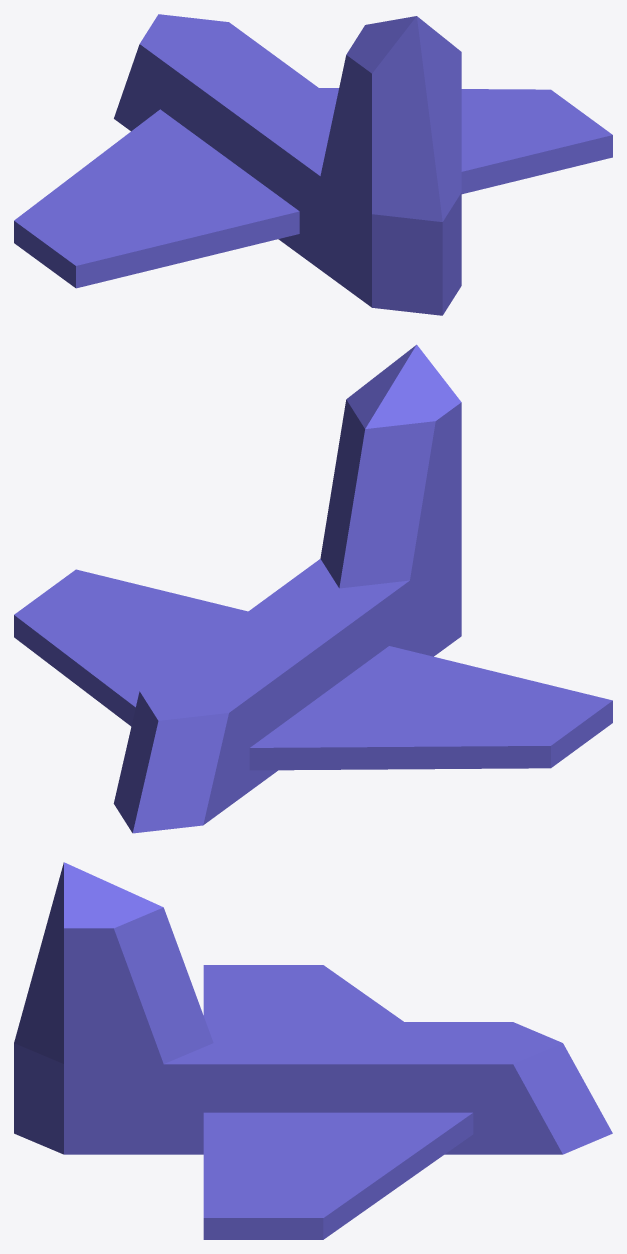
Rendered from Space_Ship.glb.
3 renders of one model, top to bottom at view 1: azimuth 30°, elevation 25°; view 2: azimuth 150°, elevation 25°; view 3: azimuth 270°, elevation 25°, orthographic. The views are drawn at different scales.
Parts seen in each view (by area): view 1: Cube; view 2: Cube; view 3: Cube.
Boxes of the visible parts, x1,y1,x2,y2 form: Cube: (14, 14, 612, 315); Cube: (14, 344, 612, 833); Cube: (14, 862, 612, 1239).
Size of the model in its own units: 12 by 6 by 12.
